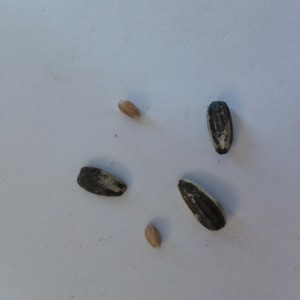girasol: (175, 176, 229, 234), (72, 162, 129, 201), (204, 98, 238, 160)
trigo: (113, 96, 143, 122), (142, 220, 164, 252)
